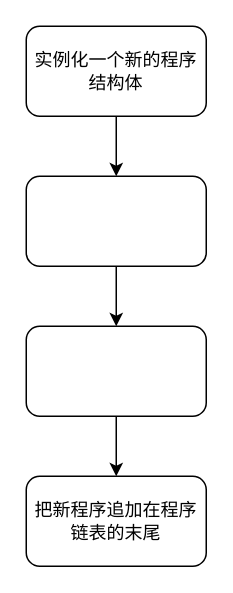
This 233x593 diagram has some shape labels left out. The shapes that lost their labels are listed below. From the top down, each one's centre as x and y in pixels, then its label:
At [115,220]: "将参数指令序列和指令数保存在结构体中".
At [115,370]: "分配一个新的程序id".
